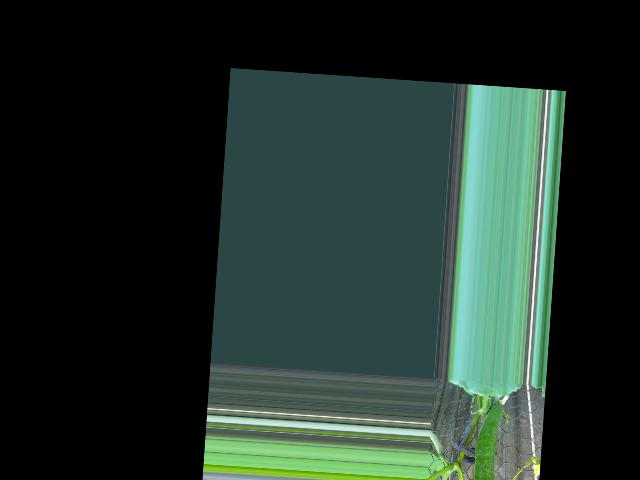cucumber: (470, 402, 503, 480)
